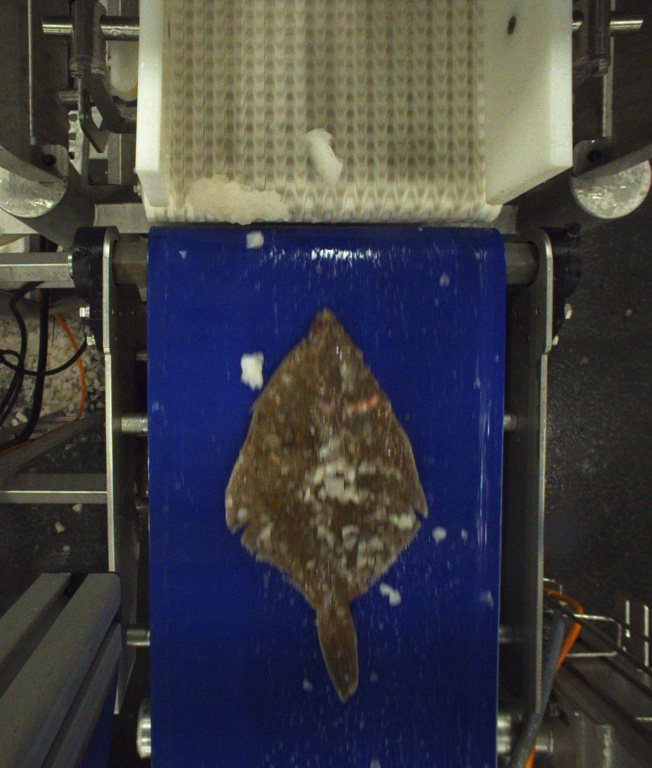PLE: (223, 306, 435, 705)
